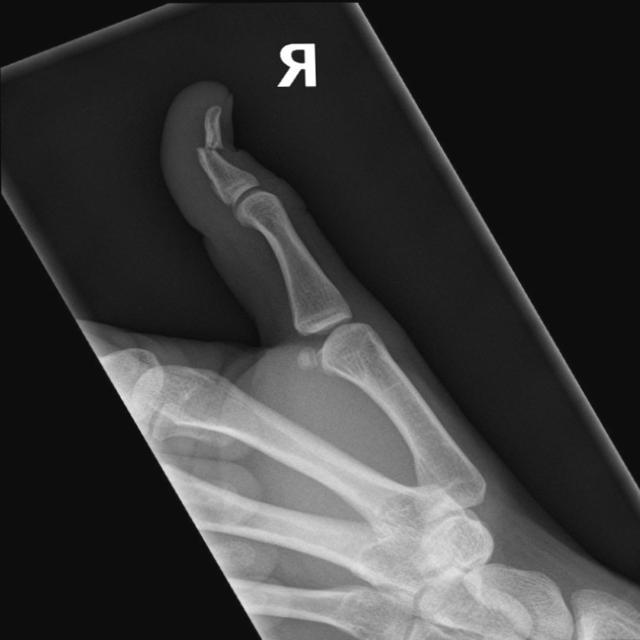Transverse Displaced: (177, 96, 271, 216)
